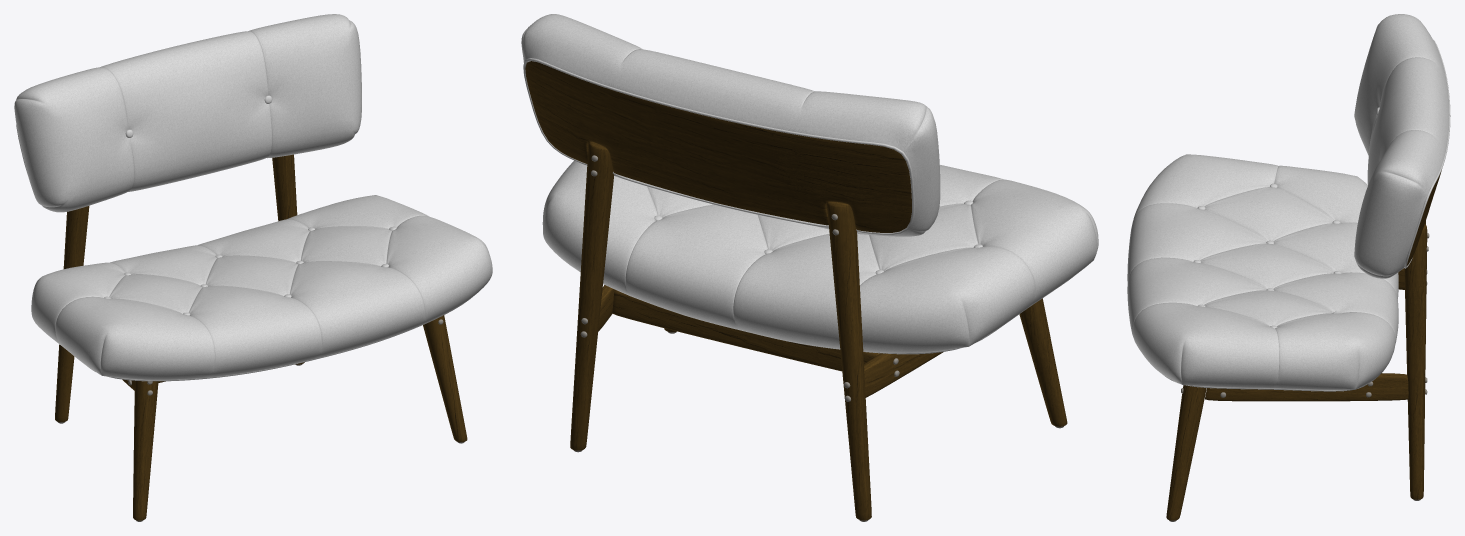
File: armchair-lounge.glb
3 views of the same model, side by side, from view 1: azimuth 30°, elevation 25°; view 2: azimuth 150°, elevation 25°; view 3: azimuth 270°, elevation 25° (orthographic). The views are drawn at different scales.
Parts seen in each view (by area): view 1: SheenChair_fabric, SheenChair_wood; view 2: SheenChair_fabric, SheenChair_wood; view 3: SheenChair_fabric, SheenChair_wood.
Boxes of the visible parts, box(x1,y1,x2,y2) form: SheenChair_fabric: box(14, 14, 492, 381); SheenChair_wood: box(55, 154, 467, 520); SheenChair_fabric: box(521, 14, 1098, 354); SheenChair_wood: box(525, 61, 1067, 520); SheenChair_fabric: box(1127, 14, 1450, 391); SheenChair_wood: box(1166, 170, 1441, 520).
Bounding box in the file's own units: 0.8266 × 0.6863 × 0.5702.
4 materials, 3 textured.
